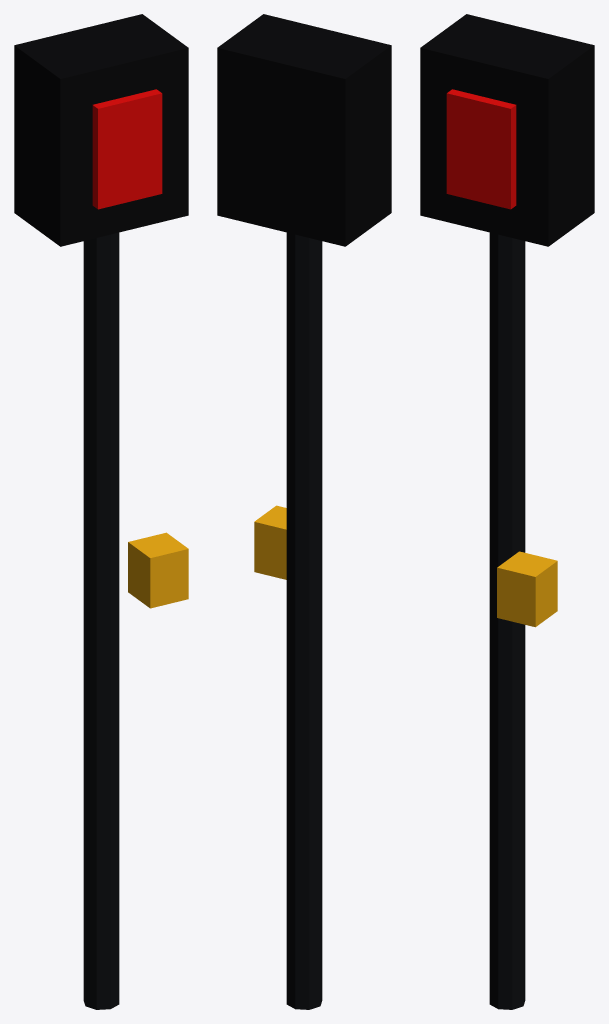
The model's file is pedestrian_signal.obj.
3 renders of one model, left to right at view 1: azimuth 30°, elevation 25°; view 2: azimuth 150°, elevation 25°; view 3: azimuth 330°, elevation 25°, orthographic.
Visible parts, largest first — view 1: pedestrian_signal; view 2: pedestrian_signal; view 3: pedestrian_signal.
Boxes of the visible parts, x1,y1,x2,y2 form: pedestrian_signal: [14, 14, 188, 1009]; pedestrian_signal: [217, 14, 391, 1009]; pedestrian_signal: [420, 14, 594, 1009].
Size of the model in its own units: 0.4 by 2.85 by 0.285.
